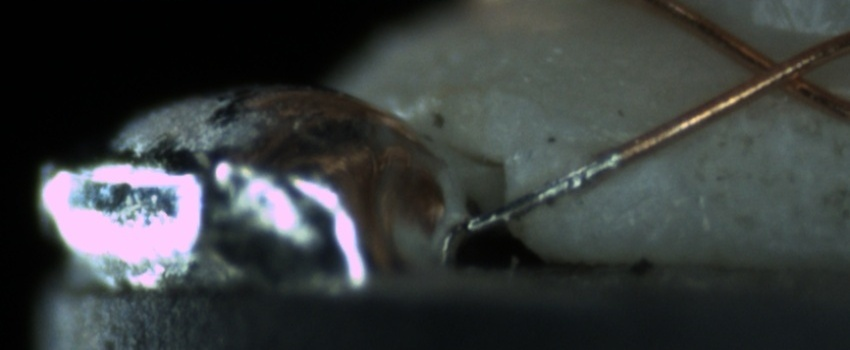CL: (722, 36, 831, 105)
TS: (462, 149, 623, 234)
